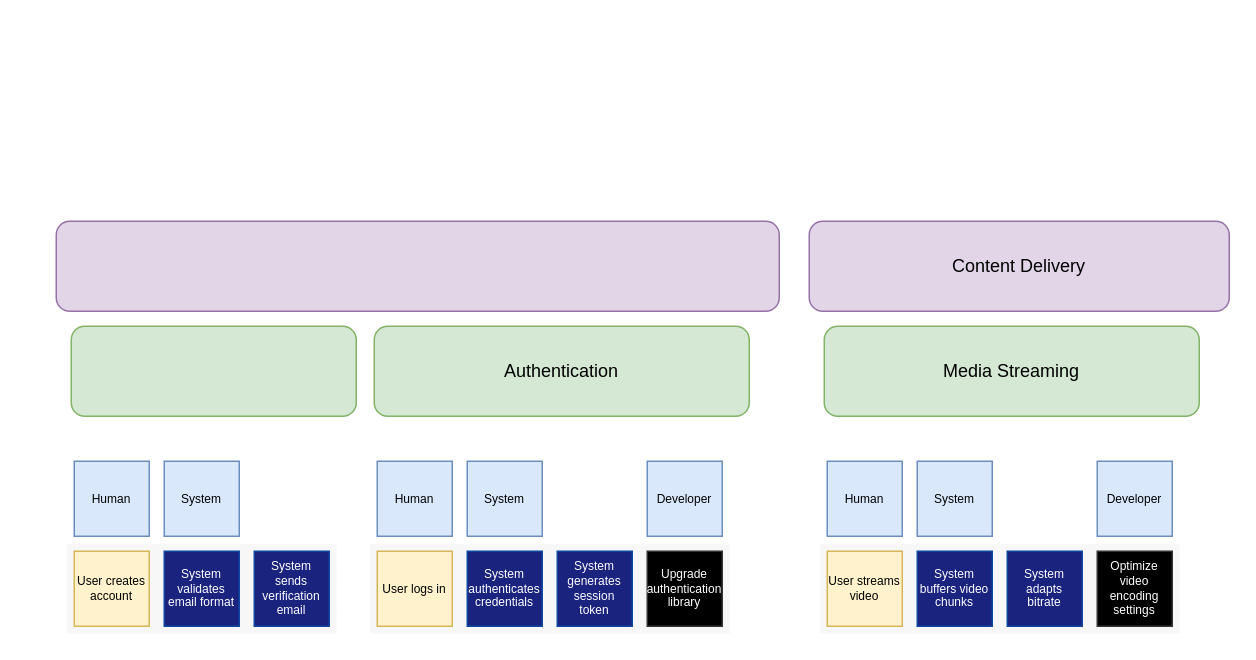
This 1256x660 diagram has some shape labels left out. Each missing label, with the centre of its shape:
User Management System: (417,265)
User Registration: (213,370)
